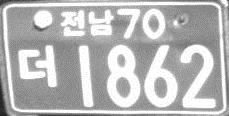0: (142, 6, 166, 40)
1: (76, 42, 96, 108)
2: (179, 43, 217, 110)
6: (143, 43, 179, 109)
7: (116, 6, 141, 40)
8: (104, 42, 142, 109)
더: (16, 43, 58, 88)
전남_O: (59, 8, 115, 38)
